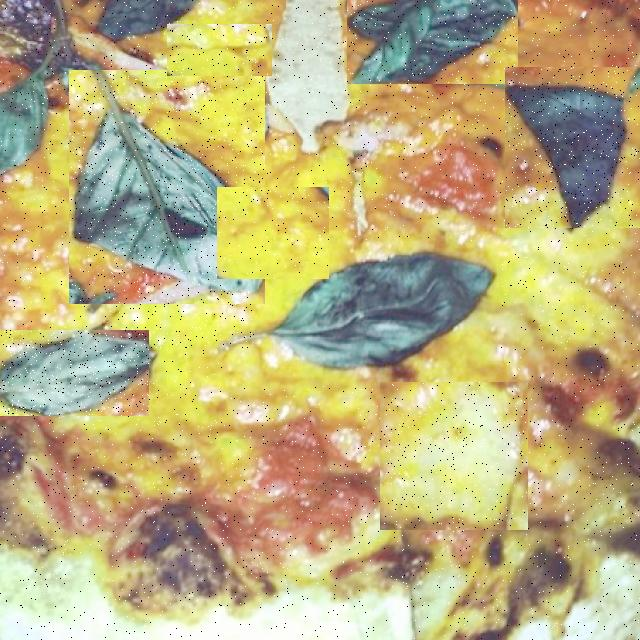Basil: (69, 70, 265, 304), (225, 241, 501, 386), (505, 67, 640, 228), (347, 0, 518, 84), (0, 330, 149, 416), (0, 48, 51, 205)
Cheese: (380, 382, 528, 530), (217, 187, 329, 279), (130, 290, 254, 348), (167, 24, 272, 76)
Pizza: (0, 0, 640, 640)
